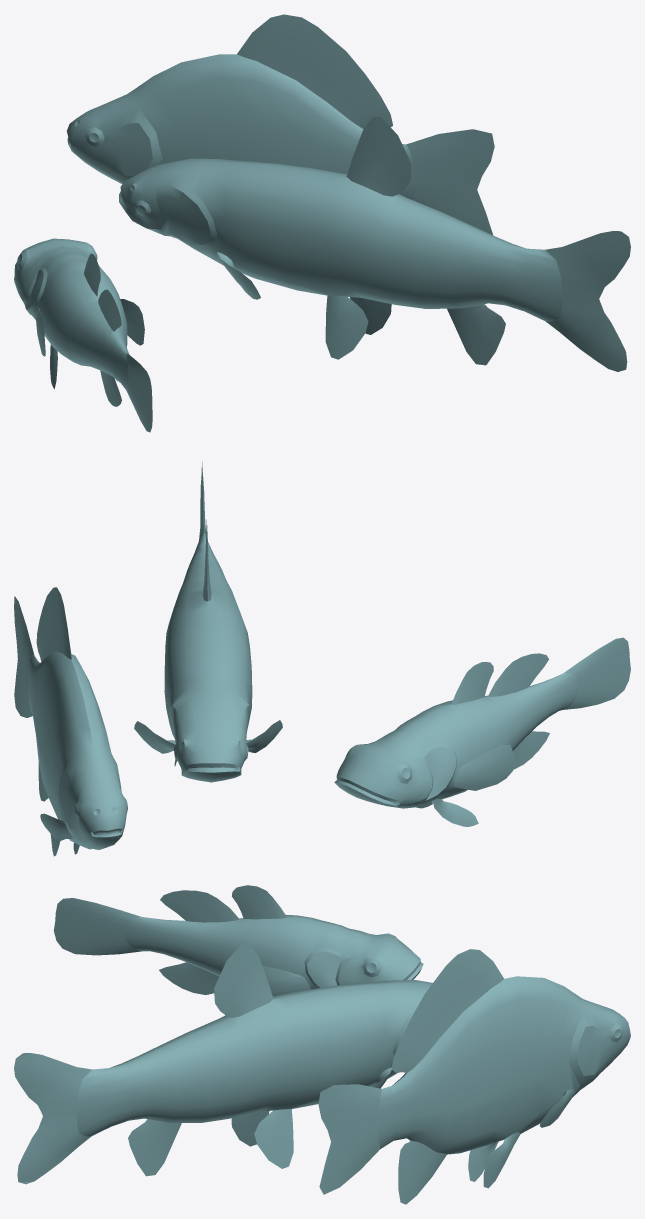
Rendered from fishes.glb.
The picture shows the model from 3 angles, top to bottom: view 1: azimuth 30°, elevation 25°; view 2: azimuth 150°, elevation 25°; view 3: azimuth 270°, elevation 25°; orthographic projection. The views are drawn at different scales.
Visible parts, largest first — view 1: Circle.001_2, Circle_1, Circle.002_3; view 2: Circle.002_3, Circle.001_2, Circle_1; view 3: Circle.001_2, Circle_1, Circle.002_3.
Part boxes in pixels (x1,y1,x2,y2): Circle.001_2: (119,116,630,371); Circle_1: (66,14,494,235); Circle.002_3: (14,238,152,432); Circle.002_3: (334,637,630,826); Circle.001_2: (134,461,282,782); Circle_1: (14,587,127,856); Circle.001_2: (14,943,432,1184); Circle_1: (318,949,630,1204); Circle.002_3: (53,885,423,996).
Bounding box in the file's own units: 5.98 × 3.05 × 7.09.
